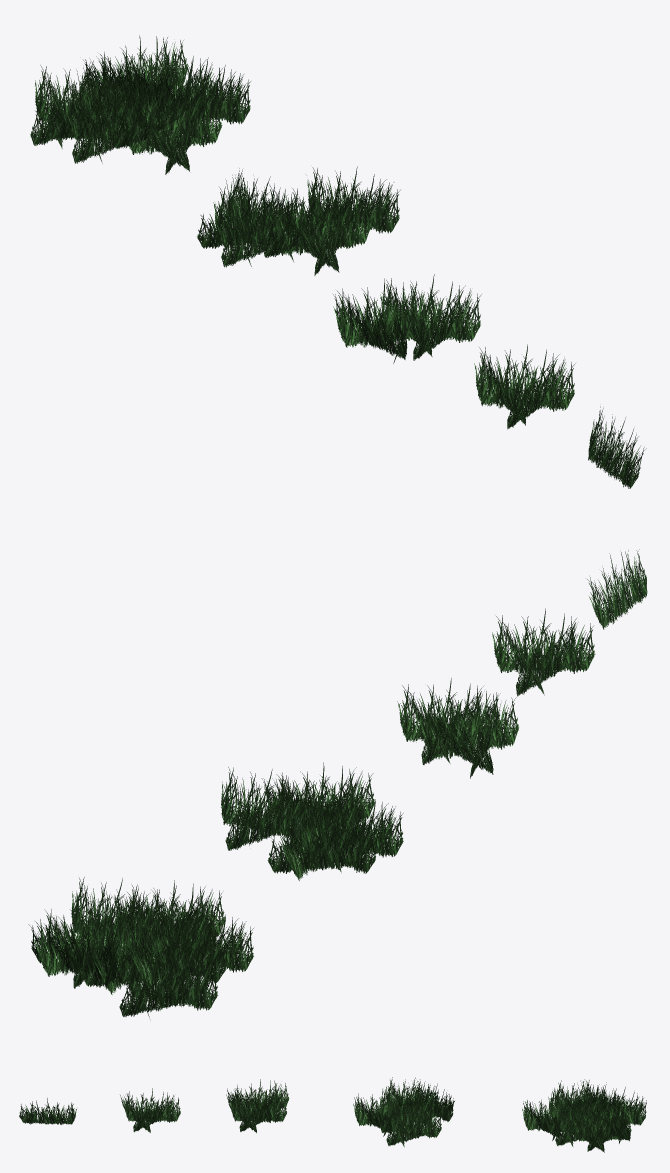
The model's file is Grass.fbx.
The picture shows the model from 3 angles, top to bottom: view 1: azimuth 30°, elevation 25°; view 2: azimuth 150°, elevation 25°; view 3: azimuth 270°, elevation 25°; orthographic projection. The views are drawn at different scales.
Visible parts, largest first — view 1: GrassPlane19, GrassPlane13, GrassPlane11, GrassPlane5, GrassPlane18, GrassPlane6, GrassPlane9, GrassPlane17, GrassPlane1, GrassPlane7, GrassPlane15, GrassPlane14 (+6 smaller); view 2: GrassPlane17, GrassPlane19, GrassPlane5, GrassPlane15, GrassPlane1, GrassPlane13, GrassPlane4, GrassPlane11, GrassPlane16, GrassPlane7, GrassPlane8, GrassPlane18 (+6 smaller); view 3: GrassPlane15, GrassPlane19, GrassPlane11, GrassPlane7, GrassPlane18, GrassPlane13, GrassPlane9, GrassPlane1, GrassPlane14, GrassPlane6, GrassPlane20, GrassPlane17 (+6 smaller).
Boxes of the visible parts, box(x1,y1,x2,y2) form: GrassPlane19: box(474, 344, 575, 429); GrassPlane13: box(333, 279, 436, 363); GrassPlane11: box(380, 274, 481, 360); GrassPlane5: box(47, 59, 148, 142); GrassPlane18: box(270, 187, 370, 275); GrassPlane6: box(113, 73, 209, 152); GrassPlane9: box(121, 86, 222, 174); GrassPlane17: box(197, 168, 297, 251); GrassPlane1: box(83, 35, 187, 105); GrassPlane7: box(157, 57, 250, 128); GrassPlane15: box(304, 166, 400, 233); GrassPlane14: box(261, 183, 358, 261); GrassPlane17: box(267, 796, 381, 880); GrassPlane19: box(492, 608, 595, 696); GrassPlane5: box(118, 906, 230, 989); GrassPlane15: box(221, 767, 313, 850); GrassPlane1: box(28, 904, 131, 989); GrassPlane13: box(420, 690, 518, 778); GrassPlane4: box(119, 943, 218, 1019); GrassPlane11: box(397, 678, 500, 764); GrassPlane16: box(302, 793, 403, 872); GrassPlane7: box(71, 877, 163, 952); GrassPlane8: box(152, 908, 253, 983); GrassPlane18: box(261, 762, 374, 832); GrassPlane15: box(386, 1101, 441, 1147); GrassPlane19: box(120, 1088, 180, 1132); GrassPlane11: box(226, 1088, 286, 1132); GrassPlane7: box(555, 1100, 610, 1146); GrassPlane18: box(353, 1089, 410, 1136); GrassPlane13: box(227, 1079, 289, 1122); GrassPlane9: box(522, 1093, 577, 1140); GrassPlane1: box(583, 1095, 633, 1143); GrassPlane14: box(379, 1087, 434, 1132); GrassPlane6: box(548, 1087, 602, 1133); GrassPlane20: box(19, 1098, 76, 1124); GrassPlane17: box(398, 1079, 454, 1121).
Size of the model in its own units: 342 by 125 by 1664.
